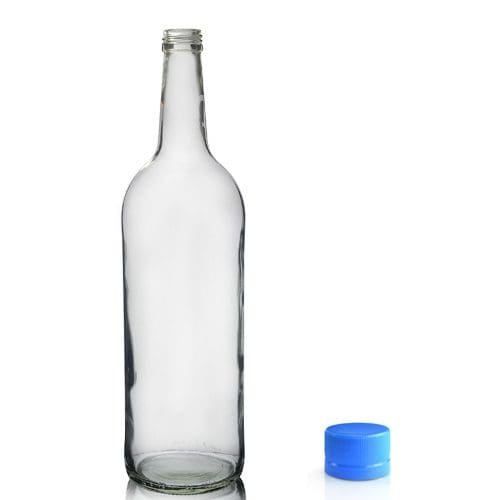glass_bottle: (111, 19, 258, 498)
